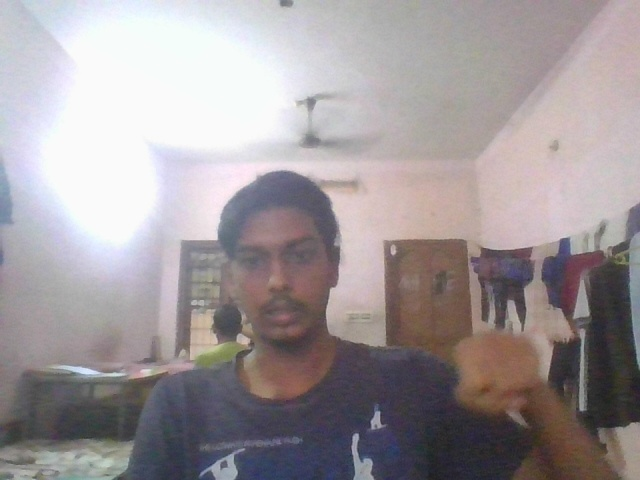yes: (446, 327, 553, 420)
